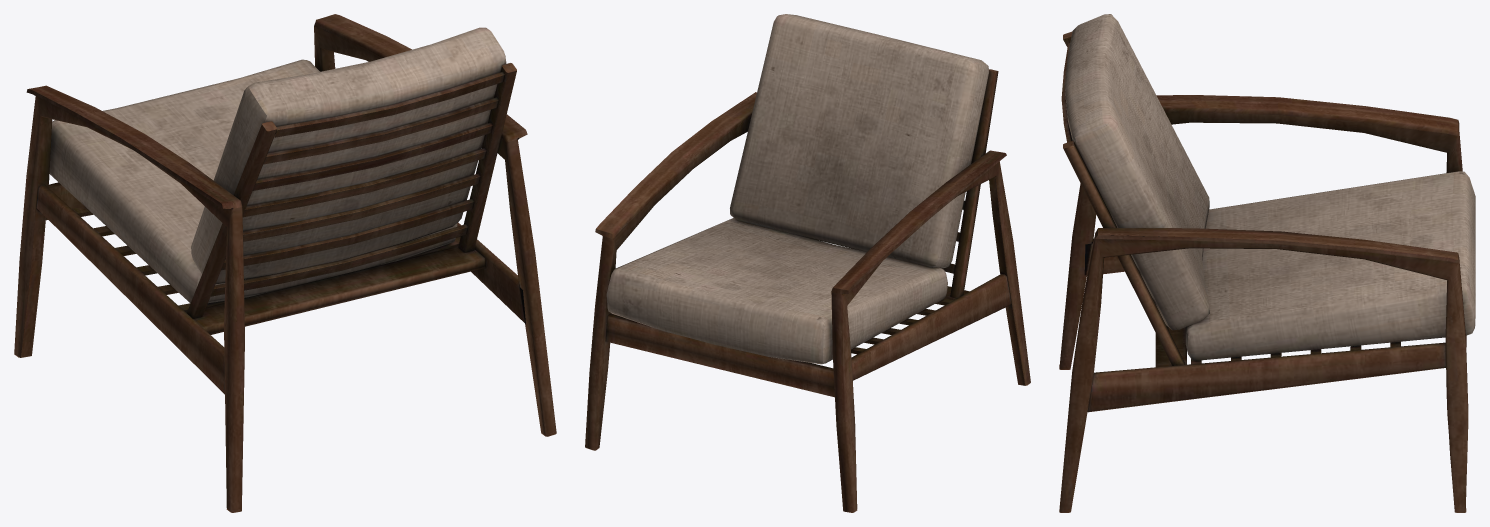
The model's file is chair.glb.
The picture shows the model from 3 angles, left to right: view 1: azimuth 30°, elevation 25°; view 2: azimuth 150°, elevation 25°; view 3: azimuth 270°, elevation 25°; orthographic projection. The views are drawn at different scales.
Parts seen in each view (by area): view 1: Chair_low; view 2: Chair_low; view 3: Chair_low.
Boxes of the visible parts, left/top/right/bottom form: Chair_low: left=14, top=14, right=556, bottom=512; Chair_low: left=585, top=14, right=1030, bottom=512; Chair_low: left=1059, top=14, right=1475, bottom=512.
Bounding box in the file's own units: 3.32 × 3.86 × 3.91.
1 material, 1 textured.
